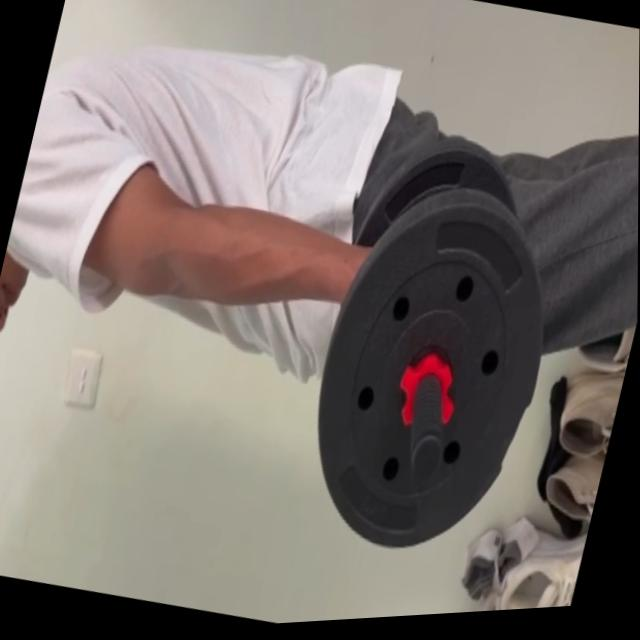dumbbell: (283, 106, 587, 586)
